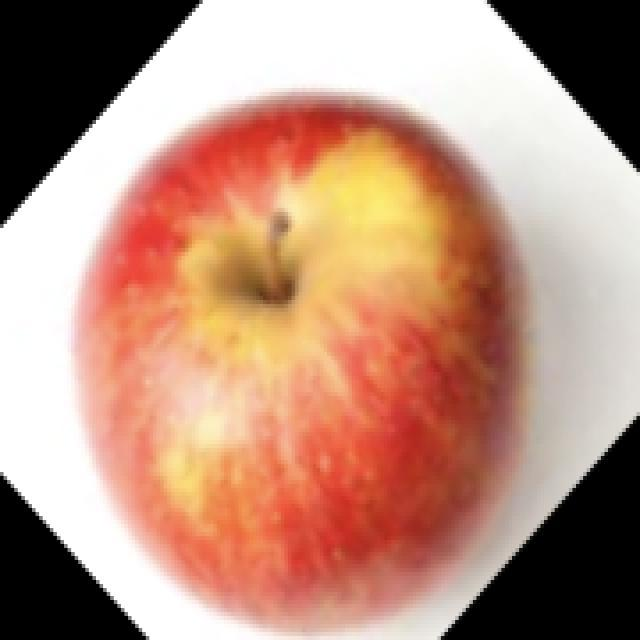Fresh Apple: (66, 84, 525, 640)
